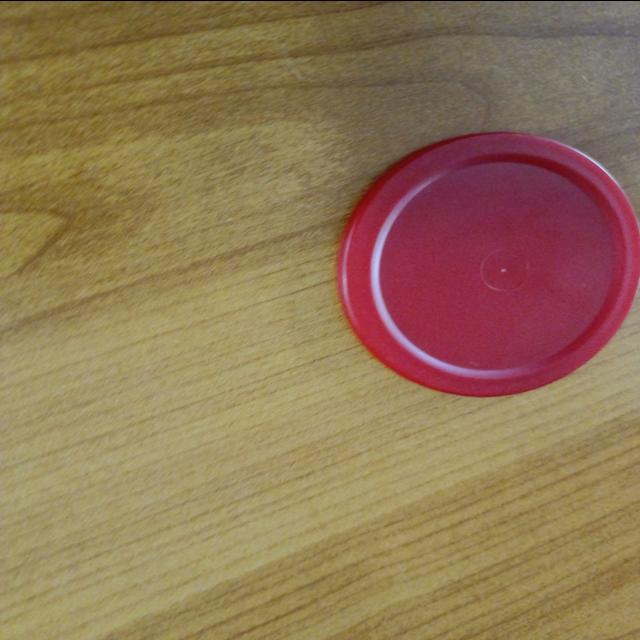chip: (336, 130, 636, 390)
